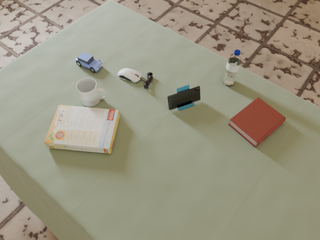book: (228, 97, 286, 147)
bottle: (223, 50, 241, 86)
box: (45, 105, 120, 153)
cup: (76, 78, 106, 107)
mouse: (118, 68, 142, 82)
phone: (168, 86, 200, 110)
toy_car: (76, 52, 103, 73)
